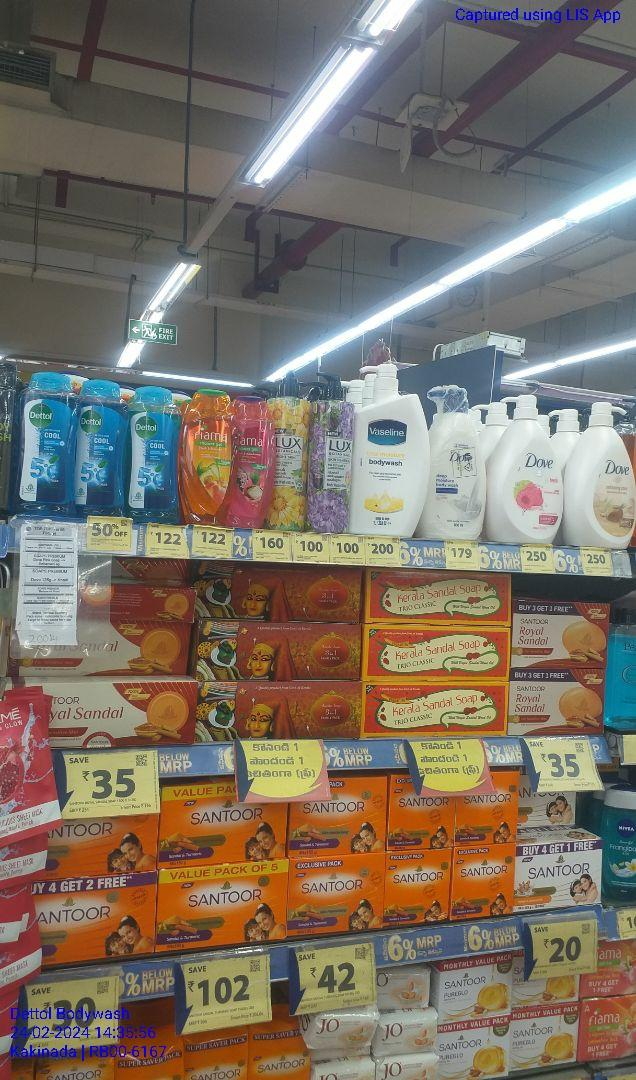Dettol_Bodywash_Cool: (18, 372, 73, 512), (79, 379, 129, 517), (134, 388, 179, 522)
Fiama_Shower_Gel_Patchouli_and_Macadamia_250ML: (232, 395, 274, 527)
Fiama_Shower_Gel_Peach_and_Avocado_250ML: (184, 391, 230, 524)
